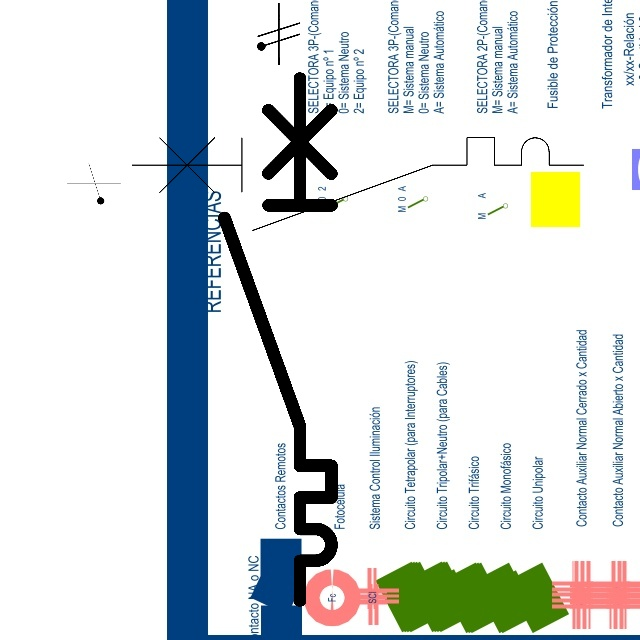interruptor_termomagnetico: (211, 65, 345, 614), (120, 126, 594, 242)
